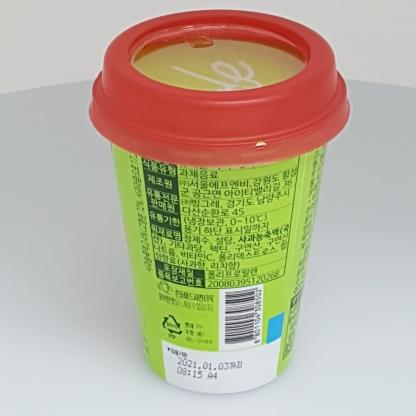--------: (88, 9, 350, 394)
